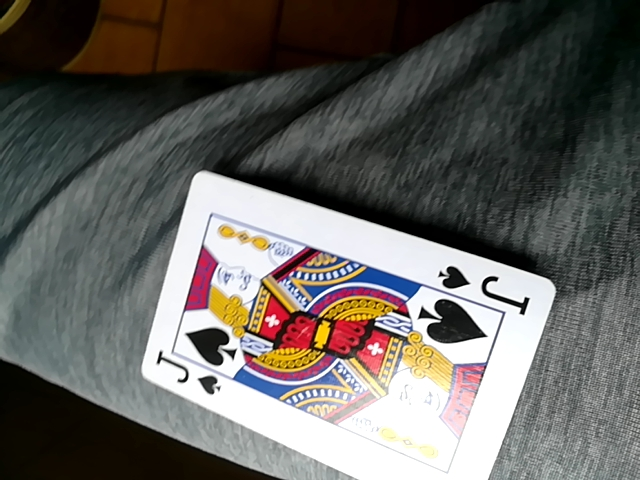ht j: (140, 167, 556, 476)
